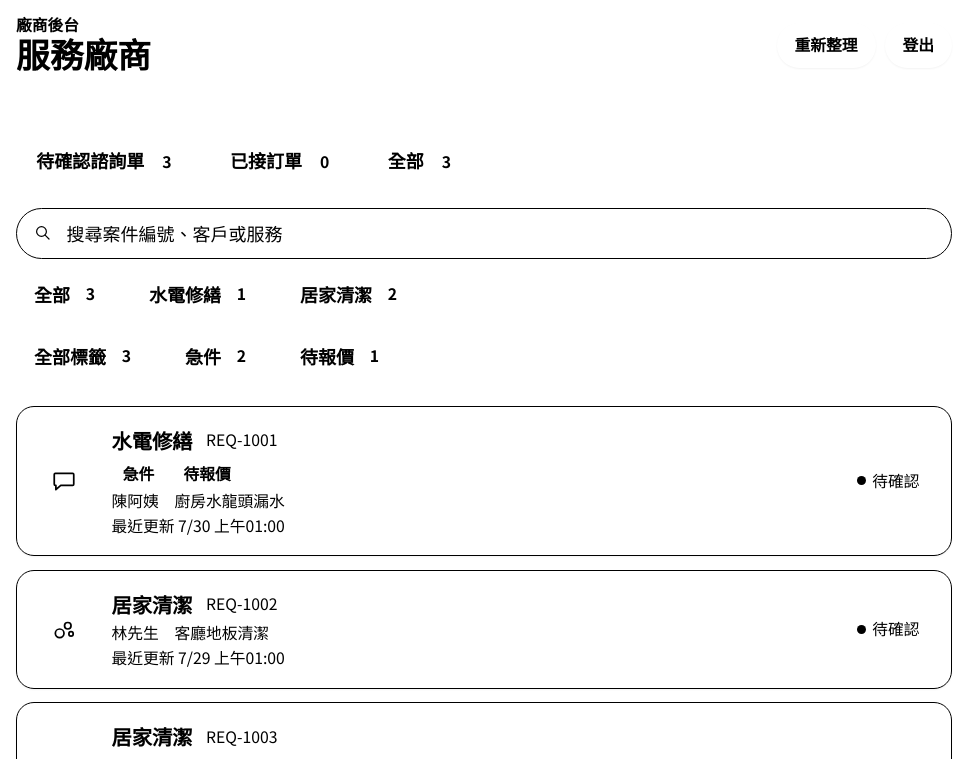
Test case: VendorRequestsPage 案件標籤 › combines the tag filter with the service category filter
The width and height of the screenshot is (969, 759).
Expected: the element named "標籤篩選" is shown, 16,334 -> 406,378
Click the button "急件 2" at [220, 356], box 167,334 -> 273,378
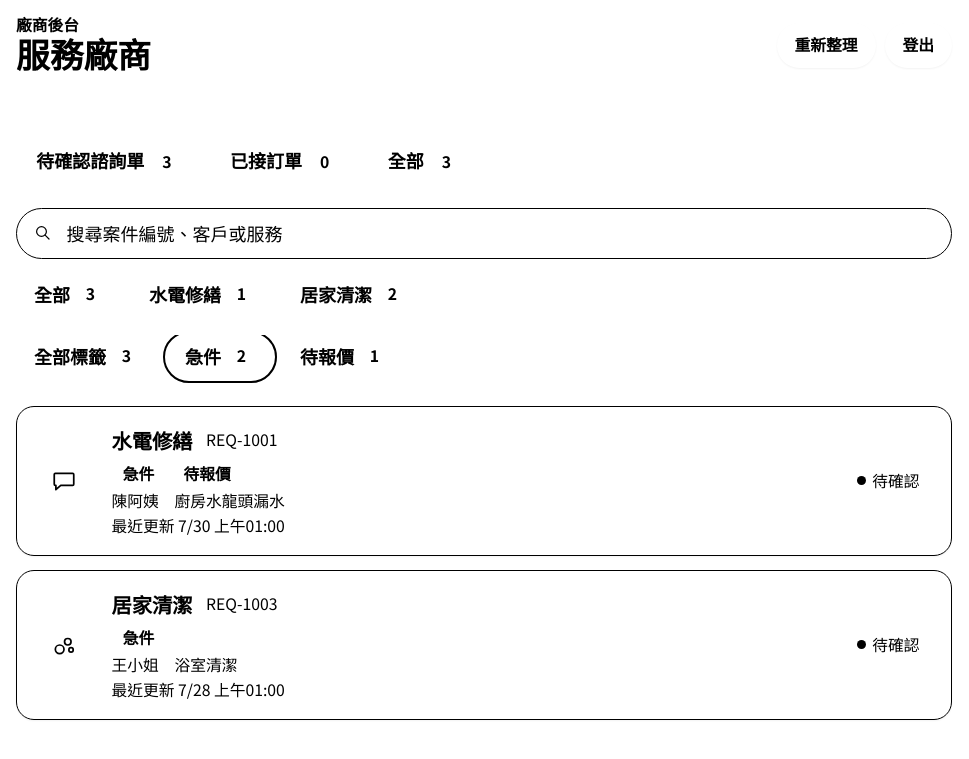
Click the button "居家清潔 2" at [353, 294], box 282,272 -> 424,316
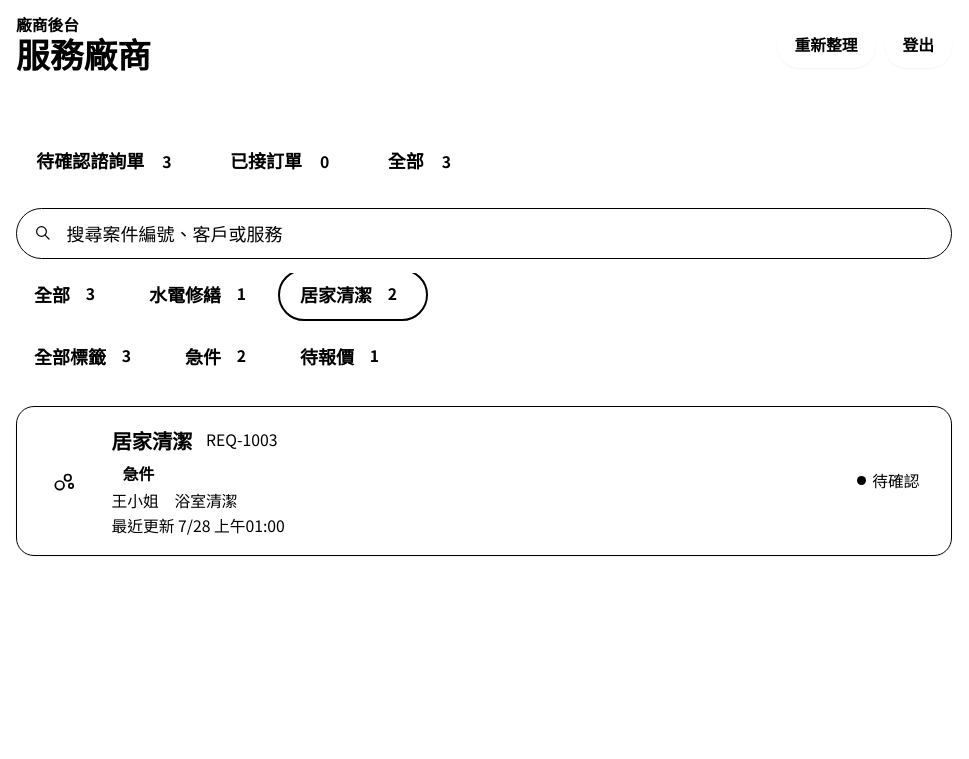
Expected: the text "REQ-1003" is shown, 206,429 -> 277,452
Now the link "REQ-1001" is gone
